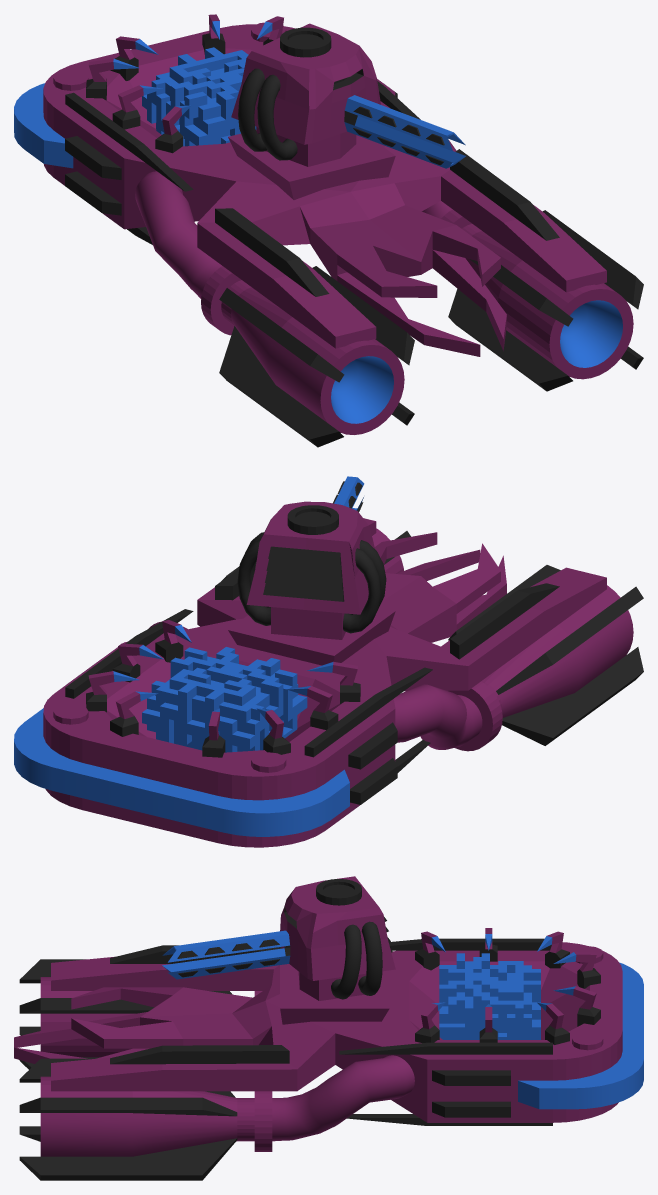
Rendered from SpaceTank.fbx.
3 views of the same model, one above another, from view 1: azimuth 30°, elevation 25°; view 2: azimuth 150°, elevation 25°; view 3: azimuth 270°, elevation 25° (orthographic). The views are drawn at different scales.
Parts seen in each view (by area): view 1: Cube, Cube.004; view 2: Cube, Cube.004; view 3: Cube, Cube.004.
Boxes of the visible parts, x1,y1,x2,y2 form: Cube: (14, 14, 643, 447); Cube.004: (231, 23, 465, 168); Cube: (14, 518, 643, 847); Cube.004: (237, 476, 386, 639); Cube: (14, 928, 643, 1180); Cube.004: (162, 876, 395, 1000).
Bounding box in the file's own units: 4.92 × 3.5 × 9.04.
